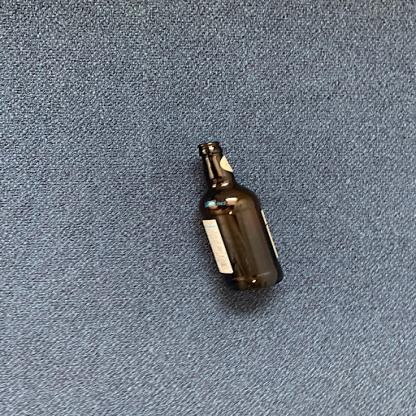trash: (193, 137, 292, 292)
